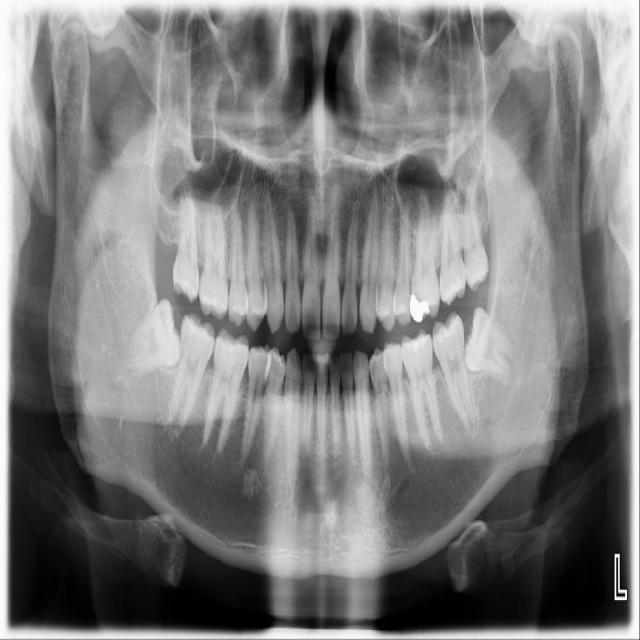52: (408, 265, 440, 325)
73: (608, 558, 612, 564)
BioHorizons Implant: (439, 181, 468, 308)
BioLife Implant: (460, 173, 490, 291)
Biomet 3i Implant: (457, 305, 527, 383)
Blue Sky Bio Implant: (429, 308, 477, 429)
Caries: (172, 190, 199, 303)
Implant: (164, 312, 221, 436)
Keystone Dental Implant: (115, 294, 187, 375)
